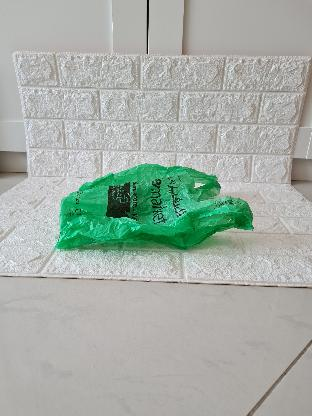Plastic Bag: (54, 163, 258, 253)
